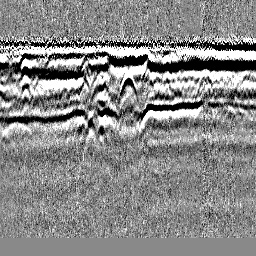cavity: (115, 69, 140, 105)
